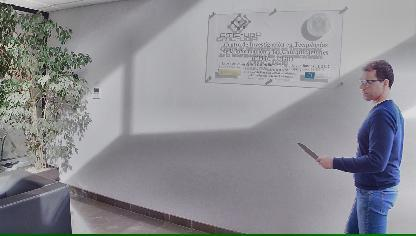knife: (295, 138, 325, 165)
